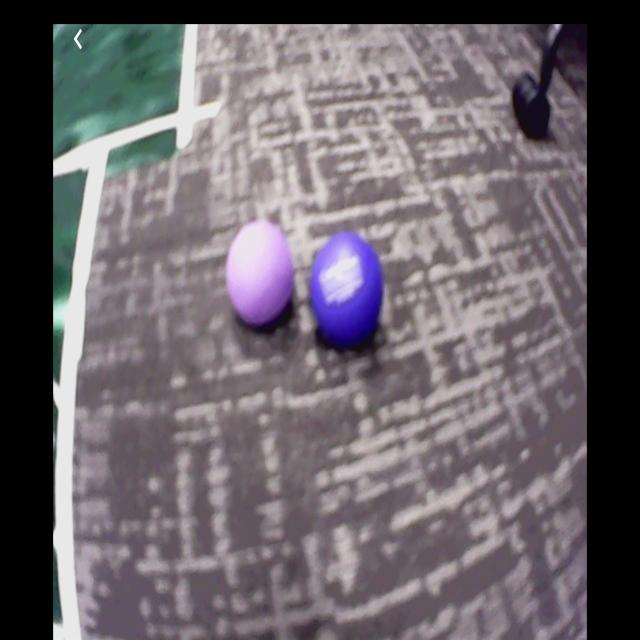ball: (309, 236, 386, 348), (228, 221, 294, 326)
